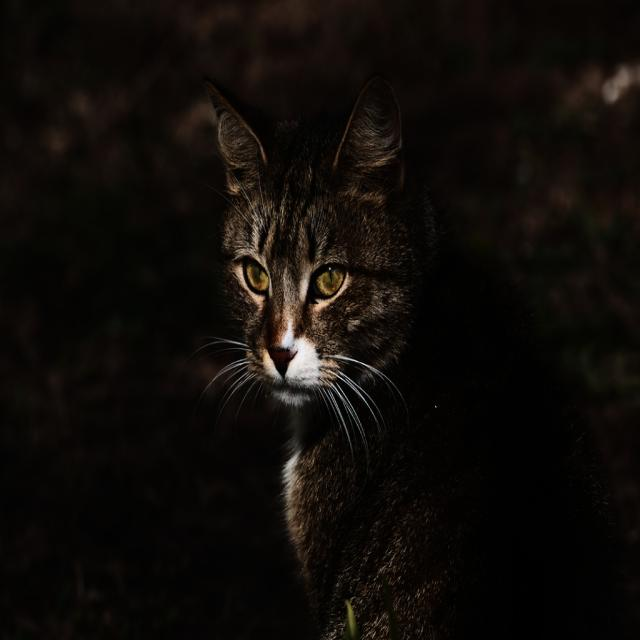Cat: (204, 86, 638, 638)
